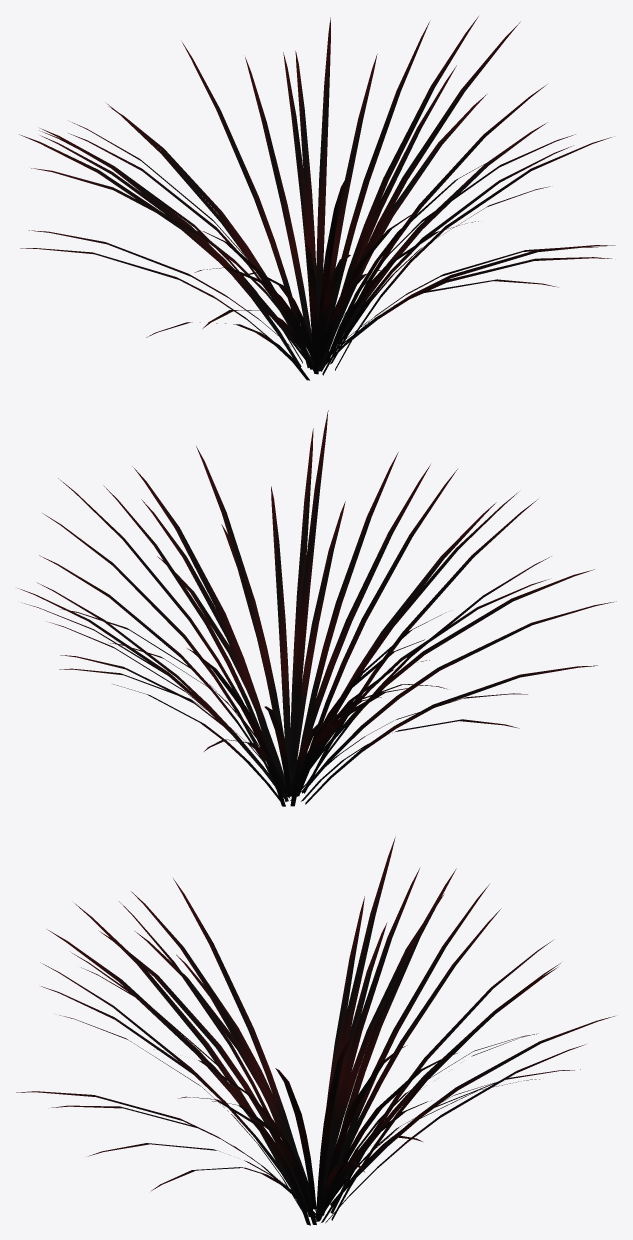
File: Grass01D.fbx
The picture shows the model from 3 angles, top to bottom: view 1: azimuth 30°, elevation 25°; view 2: azimuth 150°, elevation 25°; view 3: azimuth 270°, elevation 25°; orthographic projection. The views are drawn at different scales.
Parts seen in each view (by area): view 1: Grass01D; view 2: Grass01D; view 3: Grass01D.
Part boxes in pixels (x1,y1,x2,y2): Grass01D: (19, 16, 615, 380); Grass01D: (17, 410, 616, 806); Grass01D: (16, 837, 614, 1225).
Bounding box in the file's own units: 2.31 × 1.23 × 2.28.
